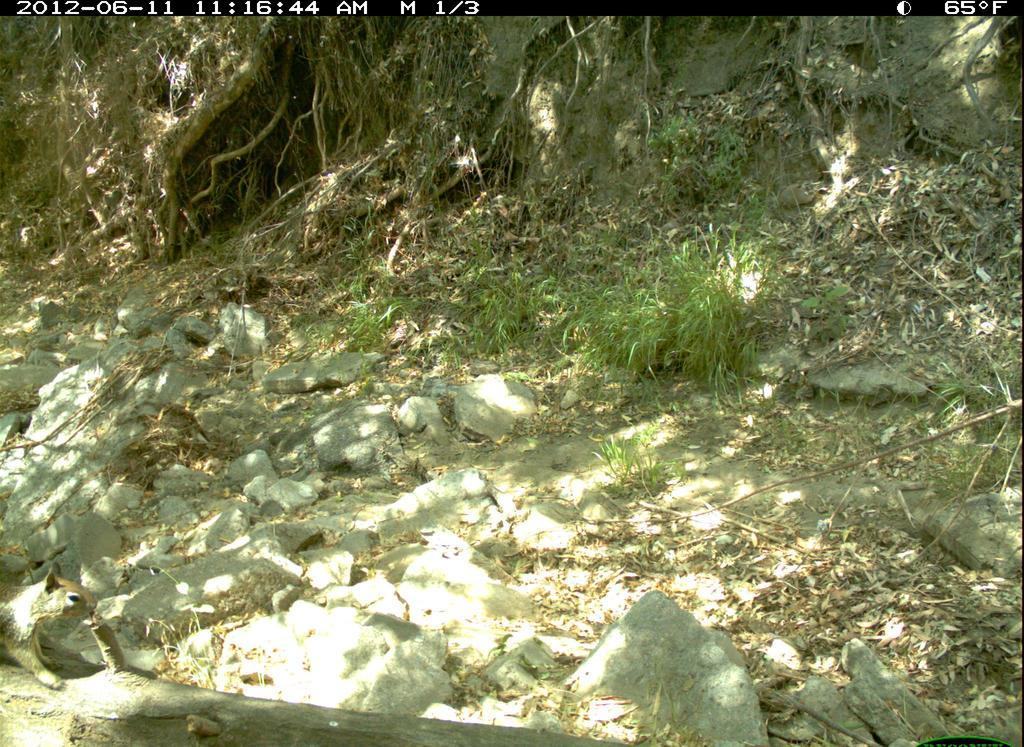squirrel: (2, 560, 104, 705)
